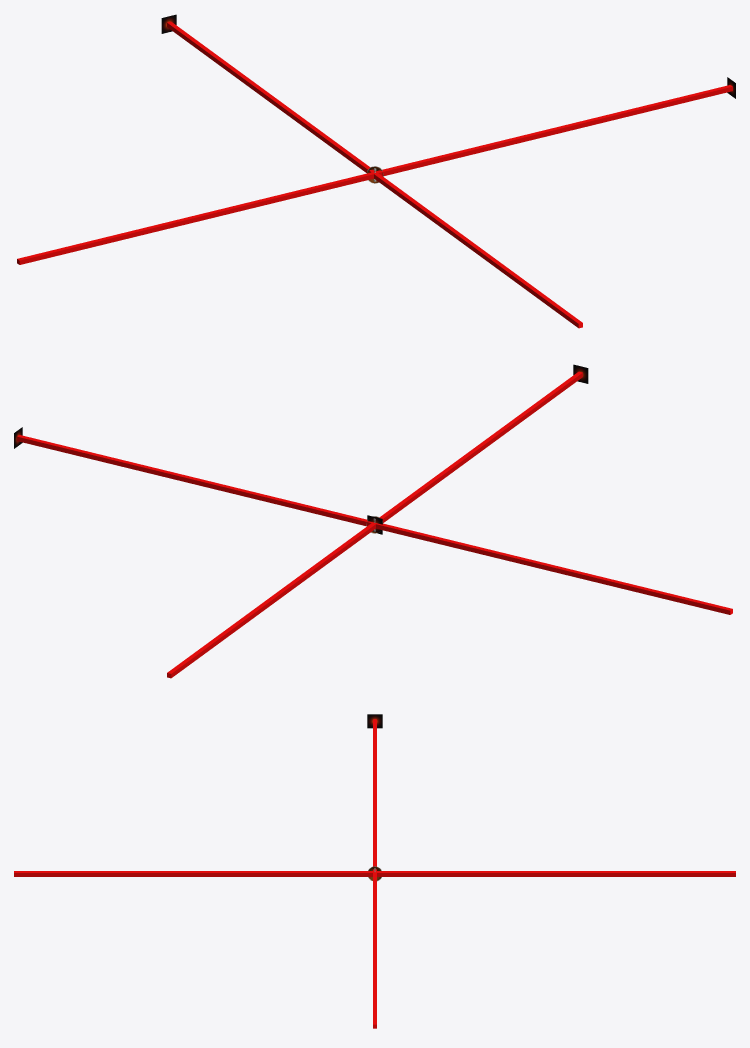
File: item_laser_bomb.glb
3 views of the same model, one above another, from view 1: azimuth 30°, elevation 25°; view 2: azimuth 150°, elevation 25°; view 3: azimuth 270°, elevation 25° (orthographic). The views are drawn at different scales.
Parts seen in each view (by area): view 1: 03_hideMesh_box (×4); view 2: 03_hideMesh_box (×4); view 3: 03_hideMesh_box (×4).
Boxes of the visible parts, bbox=[...] form: 03_hideMesh_box (×4): bbox=[17, 21, 732, 328]; 03_hideMesh_box (×4): bbox=[17, 371, 732, 678]; 03_hideMesh_box (×4): bbox=[14, 719, 735, 1028].
Size of the model in its own units: 10 by 0.2135 by 10.
4 materials, 3 textured.
